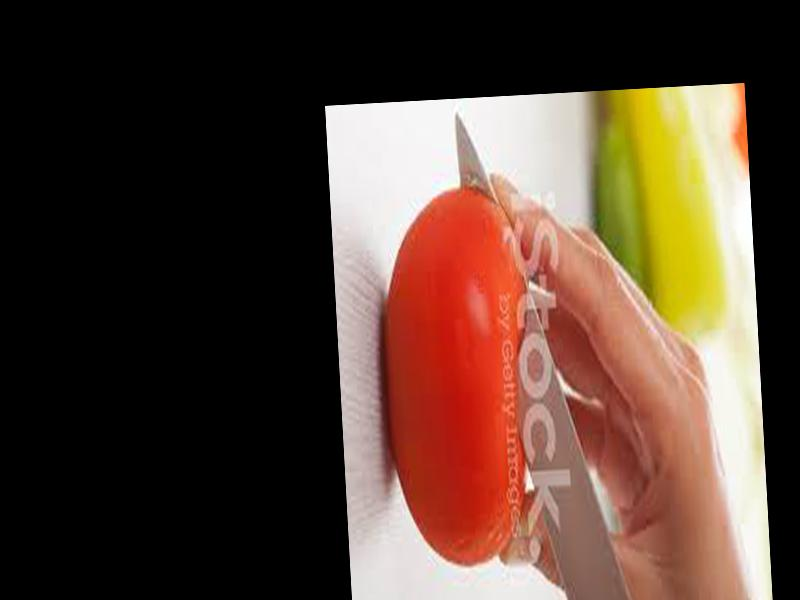Tomato: (372, 184, 539, 574)
